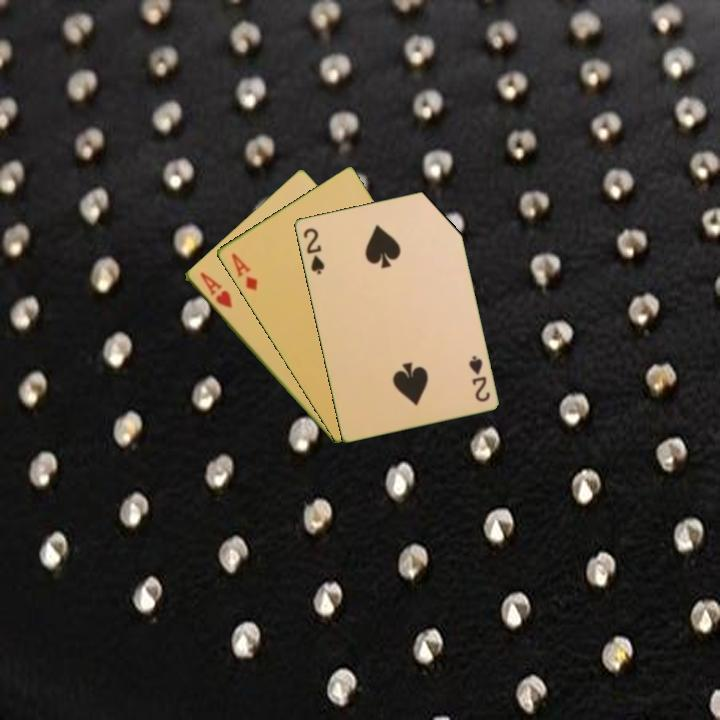2s: (299, 224, 327, 277), (465, 352, 492, 404)
Ad: (227, 249, 260, 294)
Ah: (196, 268, 235, 311)
